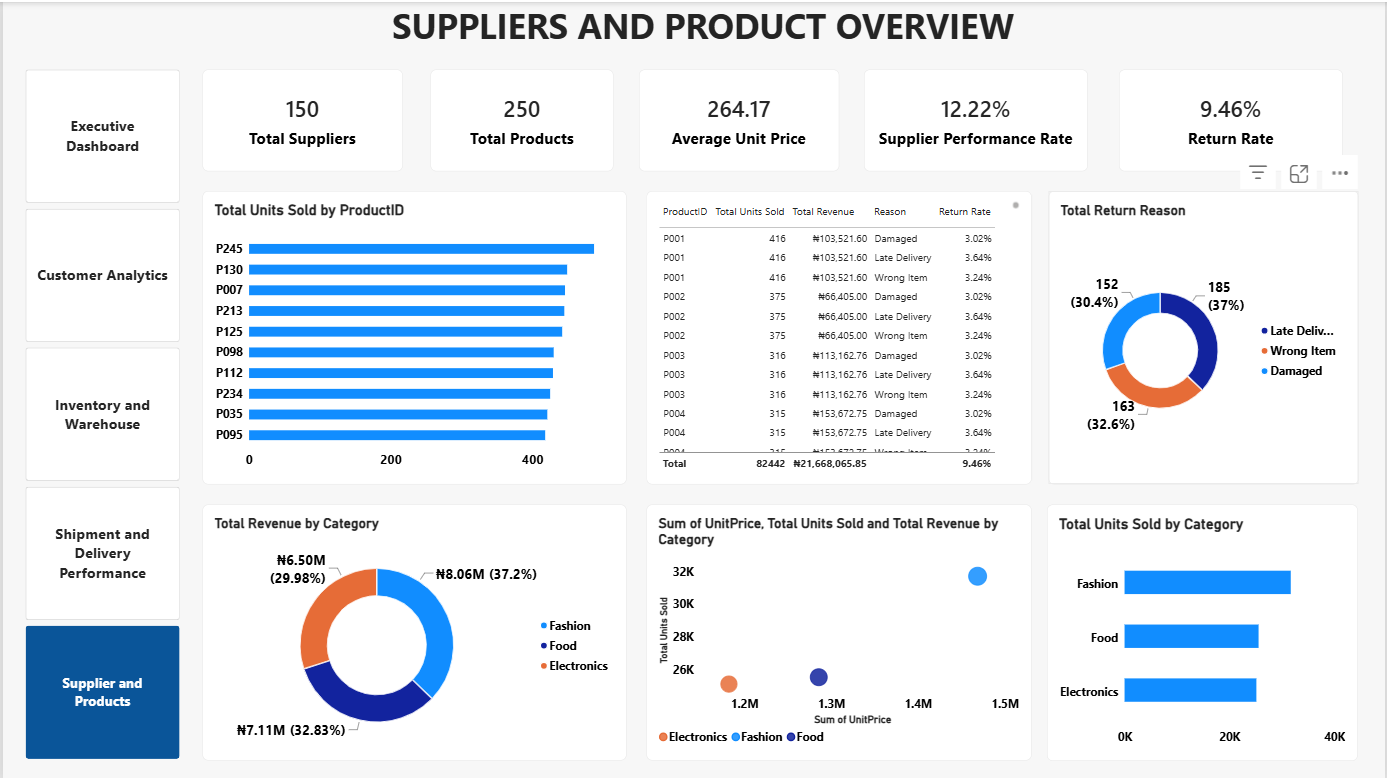

What the dashboard file says about the page in this screenshot:
{"tool":"powerbi","page":{"name":"Supplier and Products","canvas":[1920,1080],"ordinal":4},"visuals":[{"type":"textbox","box":[277.9,0,1389.3,94.2],"z":0},{"type":"pageNavigator","box":[30.6,94.2,214.3,958.4],"z":1000},{"type":"card","fields":{"Values":["_Measure.Total Suppliers"]},"box":[277.9,94.2,277.9,141.3],"z":2000},{"type":"card","fields":{"Values":["_Measure.Average Unit Price"]},"box":[883,94.2,277.9,141.3],"z":3000},{"type":"card","fields":{"Values":["_Measure.Total Products"]},"box":[593.4,94.2,254.3,141.3],"z":5000},{"type":"card","fields":{"Values":["_Measure.Supplier Performance Rate"]},"box":[1196.2,94.2,310.8,141.3],"z":6000},{"type":"clusteredBarChart","fields":{"Category":["Dim_Products.ProductID"],"Y":["_Measure.Total Units Sold"]},"box":[277.9,261.4,588.7,407.4],"z":7000},{"type":"donutChart","fields":{"Category":["Dim_Products.Category"],"Y":["_Measure.Total Revenue"]},"box":[277.9,697,588.7,355.6],"z":8000},{"type":"tableEx","fields":{"Values":["Dim_Products.ProductID","_Measure.Total Units Sold","_Measure.Total Revenue","Fact_Returns.Reason","_Measure.Return Rate"]},"box":[892.4,261.4,534.5,407.4],"z":9000},{"type":"card","fields":{"Values":["_Measure.Return Rate"]},"box":[1549.4,94.2,310.8,141.3],"z":9001},{"type":"donutChart","title":"Total Return Reason ","fields":{"Category":["Fact_Returns.Reason"],"Y":["CountNonNull(Fact_Returns.Reason)"]},"box":[1450.5,261.4,430.9,407.4],"z":9002},{"type":"scatterChart","fields":{"Series":["Dim_Products.Category"],"Size":["_Measure.Total Revenue"],"X":["Sum(Fact_Order_Items.UnitPrice)"],"Y":["_Measure.Total Units Sold"]},"box":[892.4,697,534.5,355.6],"z":9003},{"type":"clusteredBarChart","fields":{"Category":["Dim_Products.Category"],"Y":["_Measure.Total Units Sold"]},"box":[1450,697,431,356],"z":9004}]}

Visuals, with their boxes in screenshot pixels (x1, y1, x2, y2), scaled from the page's 1920x1080 canvas onto the 1387x778 screenshot:
textbox: crop(201, 0, 1204, 68)
pageNavigator: crop(22, 68, 177, 758)
card - _Measure.Total Suppliers: crop(201, 68, 402, 170)
card - _Measure.Average Unit Price: crop(638, 68, 839, 170)
card - _Measure.Total Products: crop(429, 68, 612, 170)
card - _Measure.Supplier Performance Rate: crop(864, 68, 1089, 170)
clusteredBarChart - Dim_Products.ProductID x _Measure.Total Units Sold: crop(201, 188, 626, 482)
donutChart - Dim_Products.Category x _Measure.Total Revenue: crop(201, 502, 626, 758)
tableEx - Dim_Products.ProductID x _Measure.Total Units Sold: crop(645, 188, 1031, 482)
card - _Measure.Return Rate: crop(1119, 68, 1344, 170)
"Total Return Reason " donutChart: crop(1048, 188, 1359, 482)
scatterChart - Dim_Products.Category x _Measure.Total Revenue: crop(645, 502, 1031, 758)
clusteredBarChart - Dim_Products.Category x _Measure.Total Units Sold: crop(1047, 502, 1359, 759)
